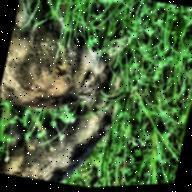boar: (0, 4, 126, 138), (14, 65, 124, 191)
